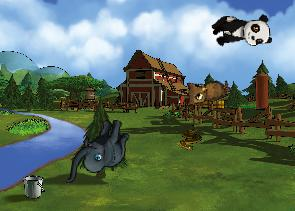elephant: (65, 113, 131, 190)
owl: (179, 67, 233, 111)
panda: (210, 13, 272, 49)
